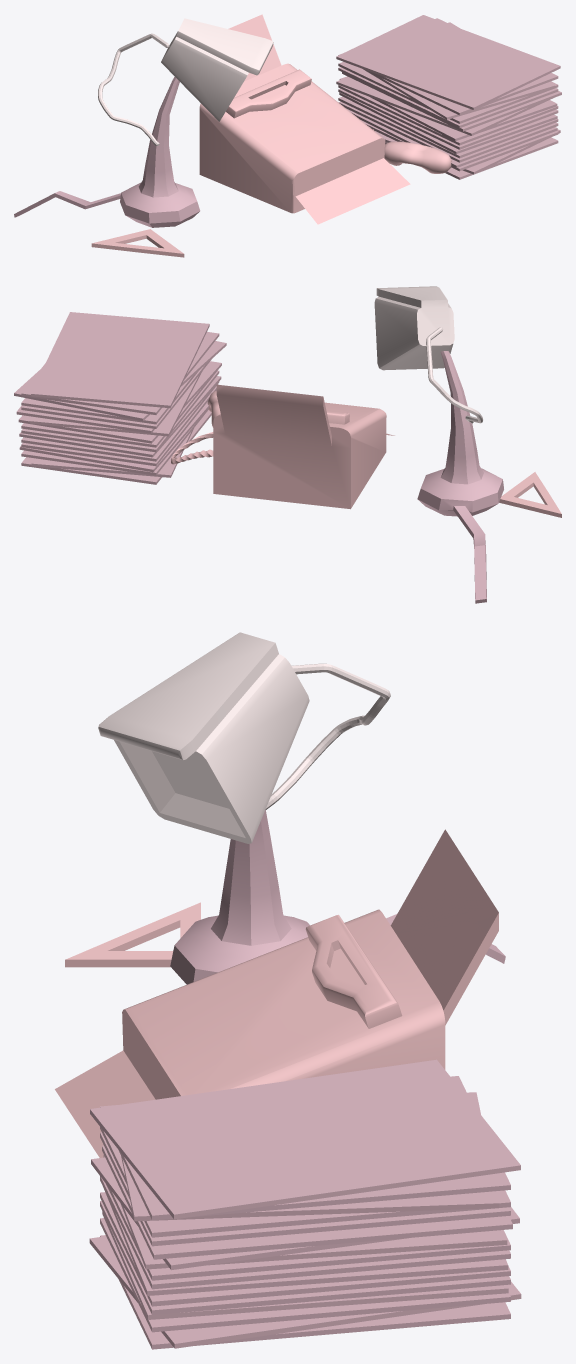
The model's file is deskprinterA.fbx.
The picture shows the model from 3 angles, top to bottom: view 1: azimuth 30°, elevation 25°; view 2: azimuth 150°, elevation 25°; view 3: azimuth 270°, elevation 25°; orthographic projection. The views are drawn at different scales.
Visible parts, largest first — view 1: Plane.021, Cube, Cylinder.005, Cube.001, Cube.006, Plane.009, Cube.002; view 2: Plane.021, Cube, Cube.001, Cylinder.005, Plane.009, Cube.002, Plane.006; view 3: Plane.021, Cube, Cylinder.005, Cube.001, Plane.009, Cube.002.
Boxes of the visible parts, box(x1,y1,x2,y2) form: Plane.021: box(336, 15, 561, 179); Cube: box(199, 14, 410, 224); Cylinder.005: box(161, 18, 273, 121); Cube.001: box(14, 77, 200, 227); Cube.006: box(384, 141, 451, 173); Plane.009: box(91, 229, 184, 257); Cube.002: box(98, 33, 169, 145); Plane.021: box(14, 312, 226, 484); Cube: box(213, 384, 394, 509); Cube.001: box(417, 351, 503, 603); Cylinder.005: box(374, 286, 454, 370); Plane.009: box(499, 472, 561, 517); Cube.002: box(426, 327, 482, 423); Plane.006: box(171, 432, 213, 464); Plane.021: box(89, 1059, 521, 1349); Cube: box(55, 829, 498, 1157); Cylinder.005: box(98, 632, 309, 843); Cube.001: box(170, 810, 505, 984); Plane.009: box(65, 902, 200, 967); Cube.002: box(265, 663, 390, 809).
Bounding box in the file's own units: 817 × 356 × 354.
